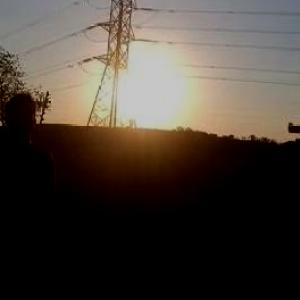follow: (0, 95, 79, 299)
